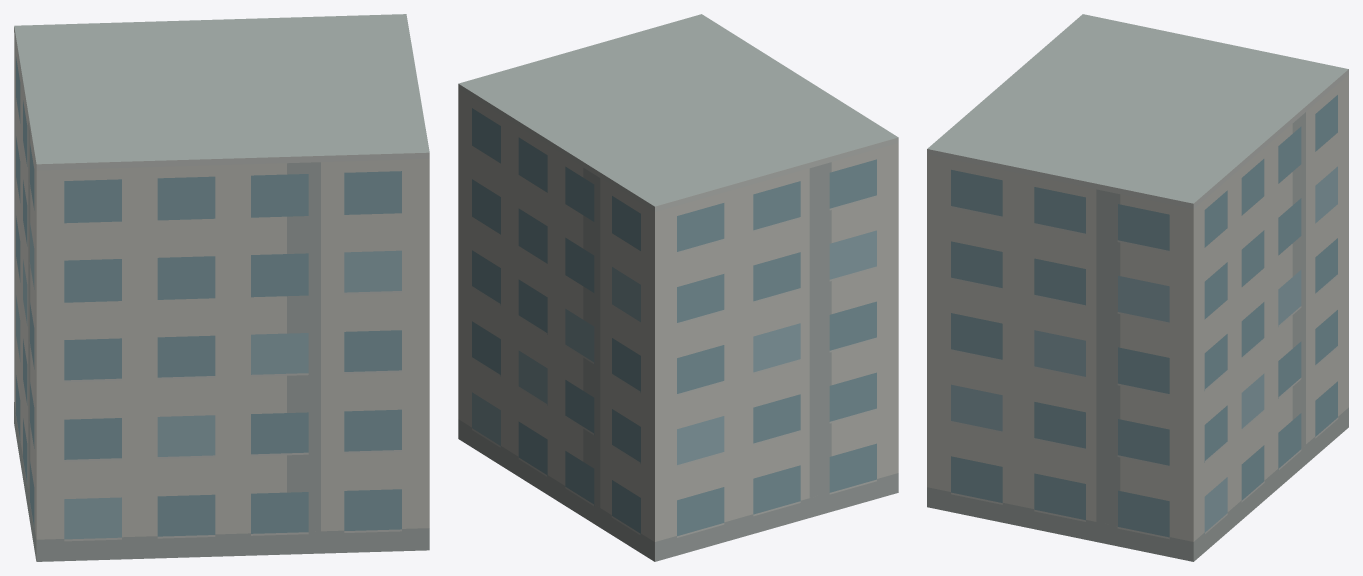
File: survey-upis-32886057.glb
The picture shows the model from 3 angles, left to right: view 1: azimuth 30°, elevation 25°; view 2: azimuth 150°, elevation 25°; view 3: azimuth 270°, elevation 25°; orthographic projection. The views are drawn at different scales.
Visible parts, largest first — view 1: survey-upis-32886057.tmp; view 2: survey-upis-32886057.tmp; view 3: survey-upis-32886057.tmp.
Part boxes in pixels (left/top/right/bottom): survey-upis-32886057.tmp: left=14, top=14, right=429, bottom=561; survey-upis-32886057.tmp: left=458, top=14, right=898, bottom=561; survey-upis-32886057.tmp: left=927, top=14, right=1348, bottom=561.
Size of the model in its own units: 17.5 by 15.4 by 16.44.
